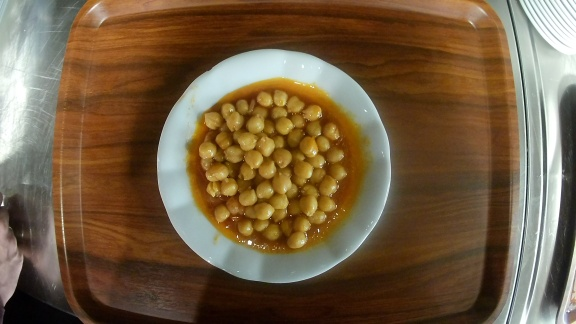sulunohut: (156, 48, 391, 284)
